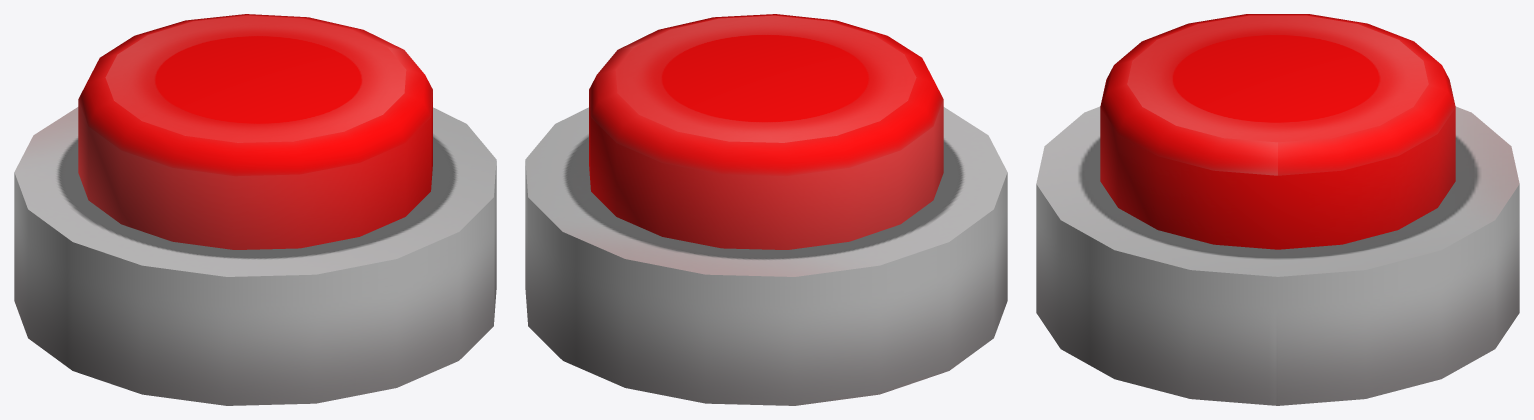
Rendered from fartbutton.fbx.
3 renders of one model, left to right at view 1: azimuth 30°, elevation 25°; view 2: azimuth 150°, elevation 25°; view 3: azimuth 270°, elevation 25°, orthographic.
Visible parts, largest first — view 1: fartbutton; view 2: fartbutton; view 3: fartbutton.
Part boxes in pixels (<box>): fartbutton: <box>14,14,496,405</box>; fartbutton: <box>525,14,1007,405</box>; fartbutton: <box>1036,14,1519,405</box>.
Size of the model in its own units: 117 by 60.57 by 118.
1 material, 1 textured.
